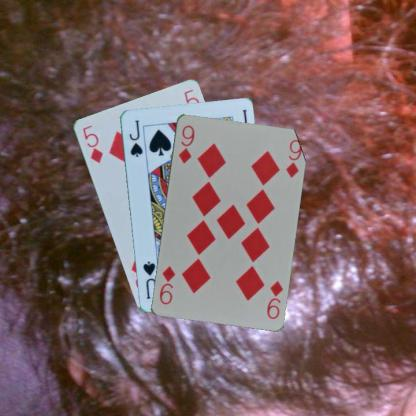5d: (80, 123, 104, 164)
9d: (176, 122, 196, 164), (264, 278, 284, 320)
Js: (126, 118, 144, 158)
